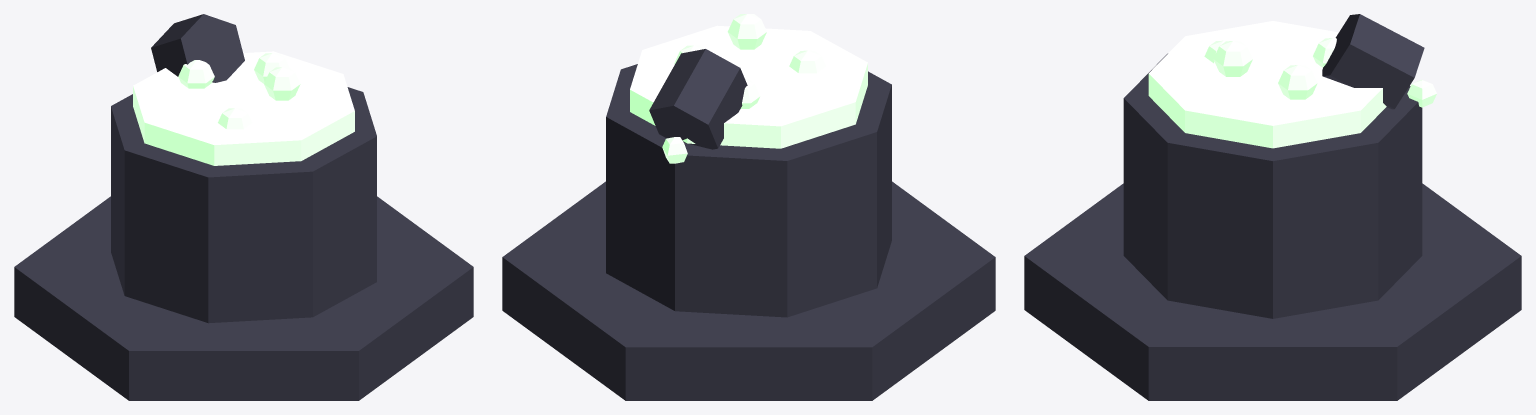
Rendered from tower_poison.glb.
3 views of the same model, side by side, from view 1: azimuth 30°, elevation 25°; view 2: azimuth 150°, elevation 25°; view 3: azimuth 270°, elevation 25° (orthographic). The views are drawn at different scales.
Visible parts, largest first — view 1: tower_poison; view 2: tower_poison; view 3: tower_poison.
Part boxes in pixels (x1,y1,x2,y2): tower_poison: (14, 14, 473, 400); tower_poison: (502, 14, 995, 400); tower_poison: (1024, 14, 1521, 400).
Size of the model in its own units: 0.866 by 0.6568 by 1.
